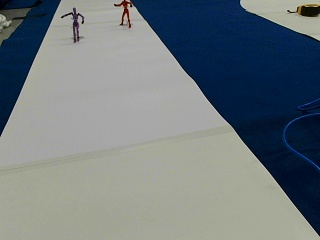pedestrian: (62, 7, 84, 42), (114, 0, 133, 26)
